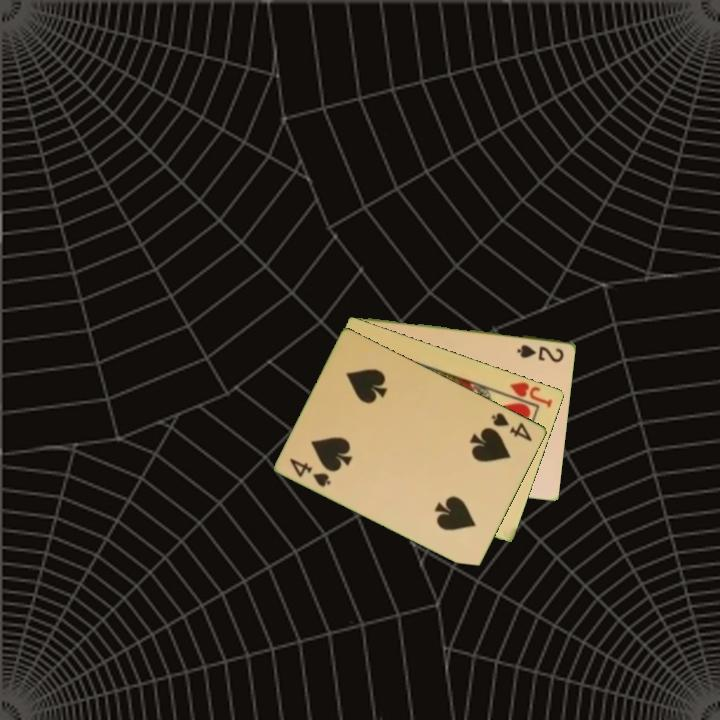2s: (514, 341, 567, 365)
4s: (286, 454, 334, 490), (488, 409, 536, 444)
Jh: (507, 378, 556, 411)
